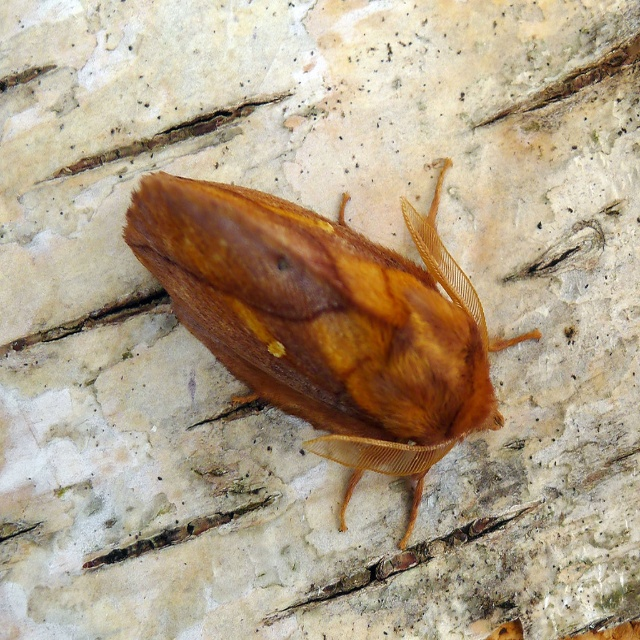Moths and butterflies: (118, 155, 546, 556)
